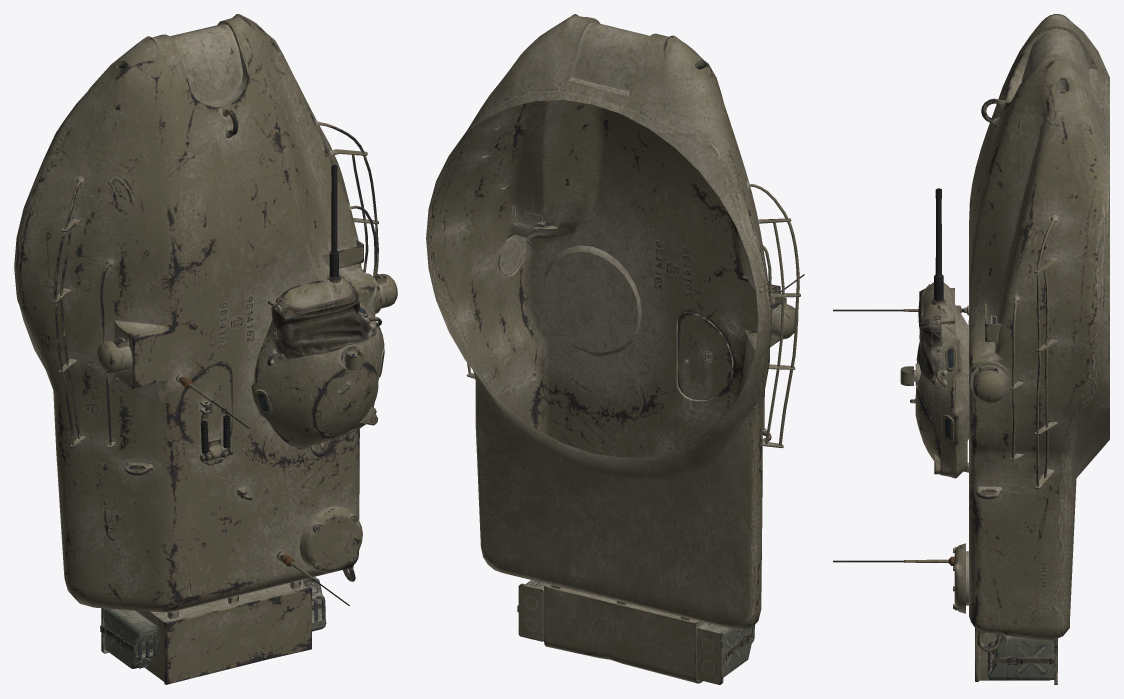
File: Turret_01.glb
3 views of the same model, side by side, from view 1: azimuth 30°, elevation 25°; view 2: azimuth 150°, elevation 25°; view 3: azimuth 270°, elevation 25° (orthographic). The views are drawn at different scales.
Visible parts, largest first — view 1: set_0_group_0; view 2: set_0_group_0; view 3: set_0_group_0.
Part boxes in pixels (<box>): set_0_group_0: <box>14,14,397,684</box>; set_0_group_0: <box>426,14,804,684</box>; set_0_group_0: <box>833,14,1109,684</box>.
Bounding box in the file's own units: 2.62 × 4.58 × 1.88.
Materials: 1 (1 with a texture image).
